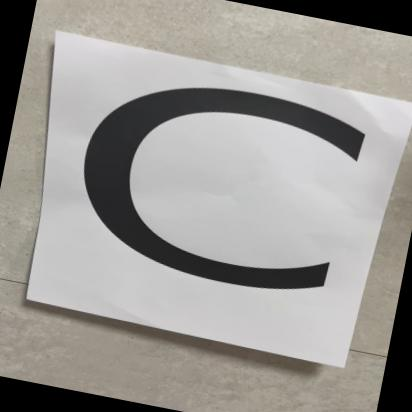seat: (11, 38, 406, 374)
